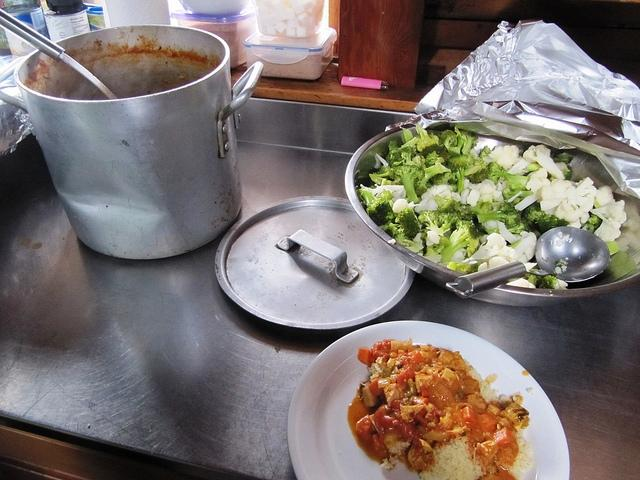broccoli: (439, 219, 478, 263), (521, 200, 570, 235), (358, 188, 396, 227), (485, 160, 530, 191), (477, 200, 522, 228), (446, 154, 476, 194), (395, 164, 425, 204), (418, 210, 462, 236), (386, 136, 418, 168), (396, 208, 424, 238), (421, 144, 451, 168), (368, 168, 404, 186), (416, 124, 439, 152), (502, 186, 534, 204), (580, 212, 603, 234), (459, 130, 479, 155), (427, 172, 458, 186), (528, 275, 558, 289), (438, 130, 458, 150), (454, 201, 473, 222), (468, 166, 490, 184), (448, 135, 464, 157), (551, 152, 574, 164), (605, 241, 620, 256), (400, 146, 414, 162), (463, 166, 482, 176), (526, 163, 542, 171), (528, 264, 540, 272)
cauliflower: (554, 176, 596, 222), (523, 145, 565, 180), (414, 185, 462, 214), (470, 234, 517, 262), (464, 178, 503, 204), (590, 200, 626, 228), (361, 184, 406, 204), (482, 145, 519, 169), (498, 221, 532, 244), (514, 233, 536, 264), (540, 180, 570, 199), (478, 256, 510, 272), (392, 198, 422, 214), (508, 156, 532, 174), (594, 186, 614, 206), (450, 248, 468, 264), (426, 230, 441, 246), (506, 278, 529, 288), (467, 190, 480, 206), (376, 154, 388, 166), (469, 148, 482, 158)
